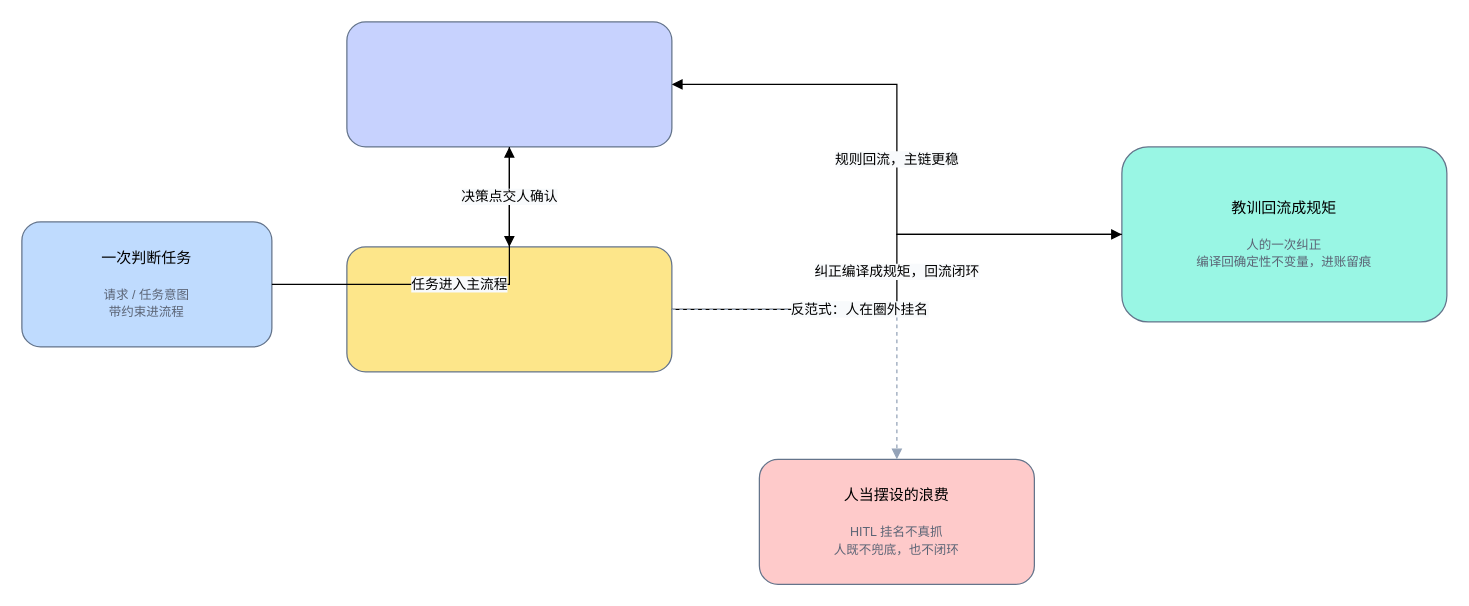
Image size: 1469x606. Some labels were removed from this diagram. Each missing label, with the centre of its shape:
"Agent 主流程 自动化跑通主链 但这才是半条闭环" goes at point 509,84.
"人只在决策点进圈 关键闸门让人确认 不是全程盯梢，也不是放手不听" goes at point 509,309.
